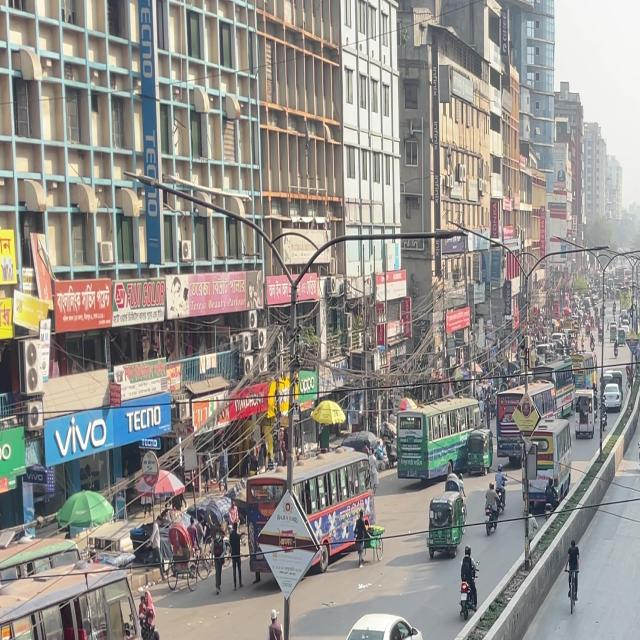bus: (246, 448, 380, 566), (0, 546, 144, 640), (399, 401, 490, 482)
car: (336, 615, 430, 640)
